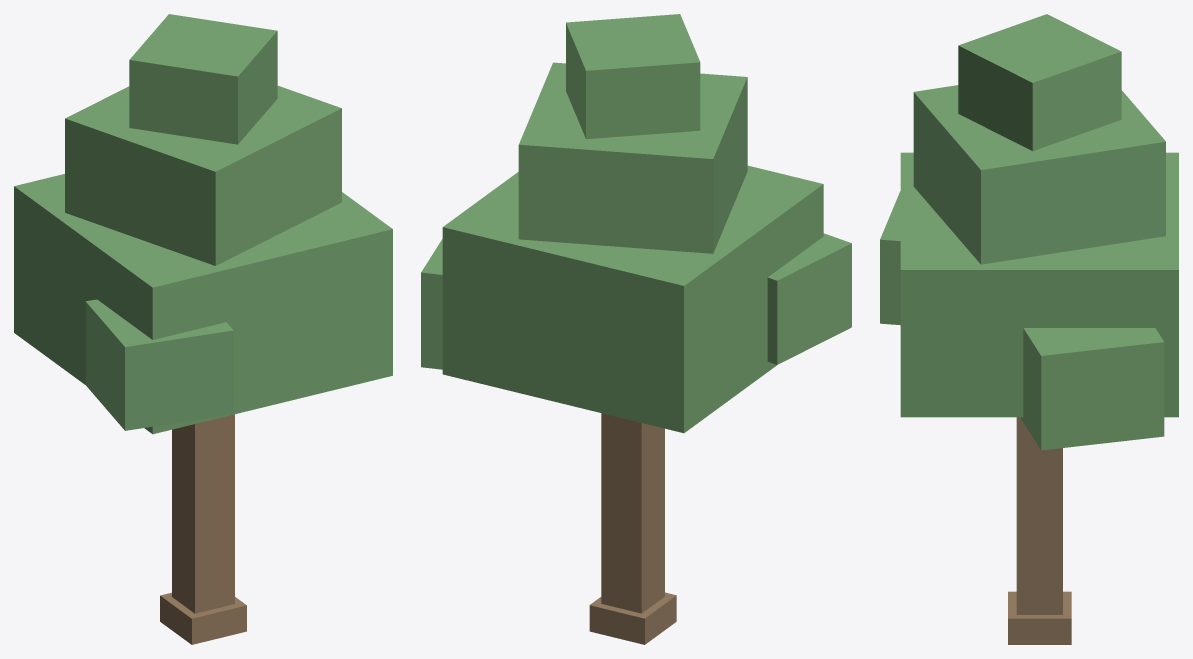
File: tree.glb
3 renders of one model, left to right at view 1: azimuth 30°, elevation 25°; view 2: azimuth 150°, elevation 25°; view 3: azimuth 270°, elevation 25°, orthographic.
Parts seen in each view (by area): view 1: Tree; view 2: Tree; view 3: Tree.
Part boxes in pixels (x1,y1,x2,y2): Tree: [14, 14, 392, 644]; Tree: [421, 14, 851, 644]; Tree: [880, 14, 1178, 644].
Size of what is drawn, in the model's own units: 3.25 by 5.55 by 2.58.
